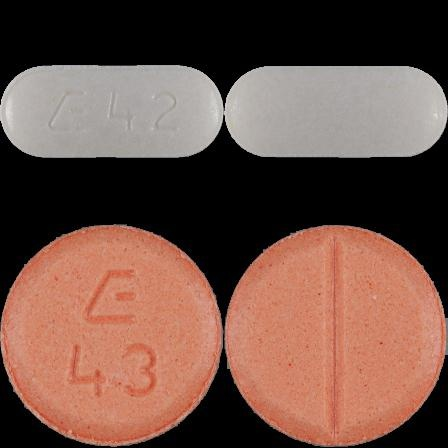0185-0042: (0, 0, 224, 224)
